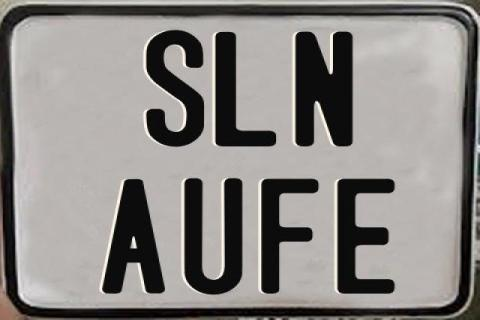A: (100, 177, 168, 295)
E: (334, 178, 398, 294)
F: (260, 179, 318, 297)
L: (214, 32, 278, 150)
N: (294, 29, 354, 145)
S: (143, 27, 201, 149)
U: (183, 177, 245, 295)
